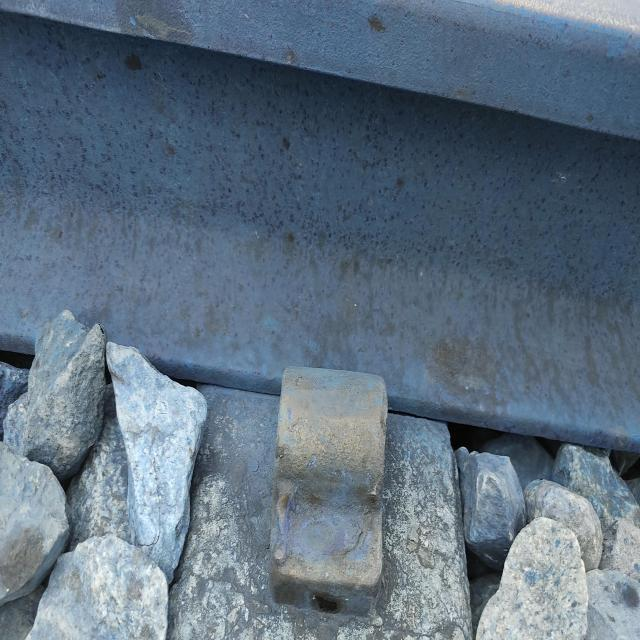Missing Fastener: (242, 350, 411, 632)
